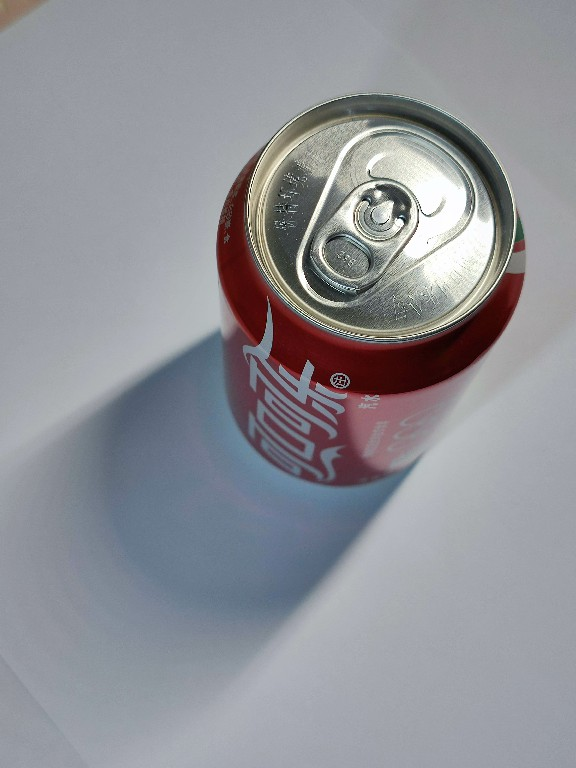can: (210, 90, 530, 495)
